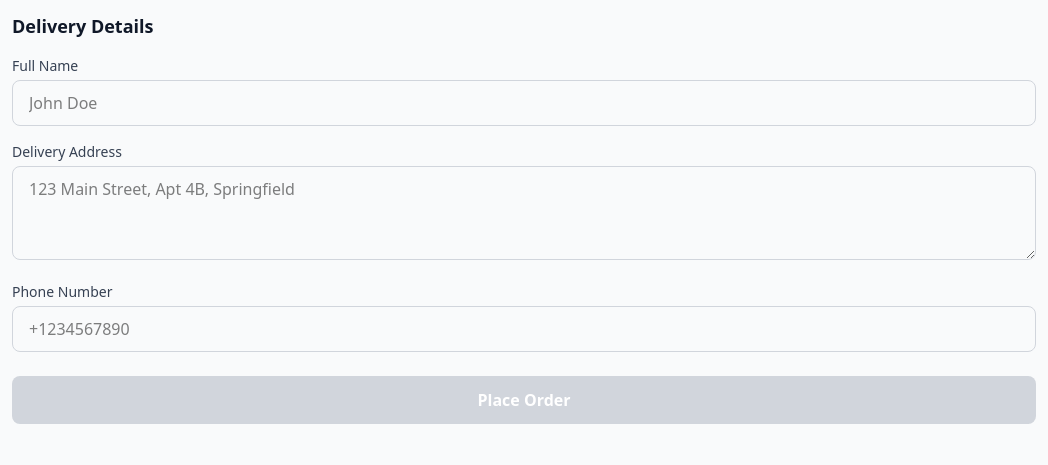
Test: CheckoutForm › shows validation error on blur for invalid phone
This screenshot has width=1048, height=465.
In the field labelled "Phone Number": (524, 329) [12,306,1036,352], type "not-a-phone"
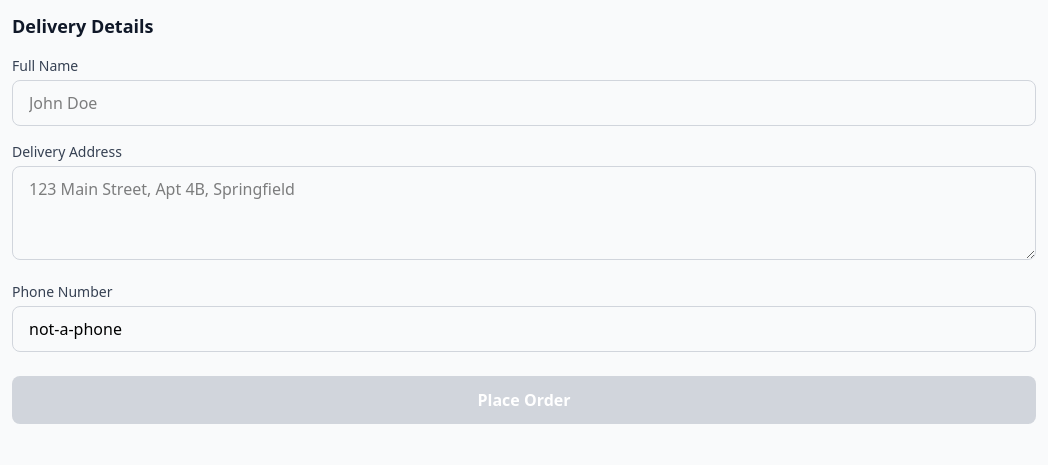
Leave the field labelled "Phone Number", box [12,306,1036,352]
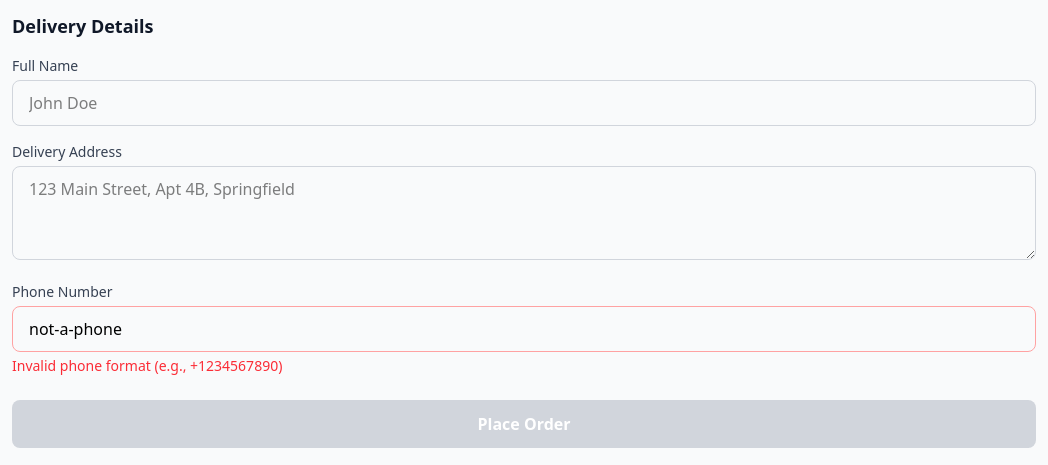
Now the text "Invalid phone format (e.g., +1234567890)" is shown, box [12,356,282,375]
